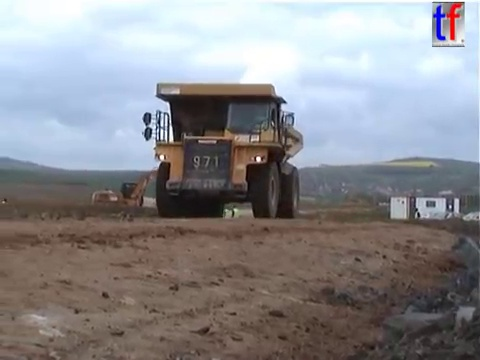excavator: (89, 163, 198, 214)
truck: (140, 79, 307, 221)
worker: (221, 204, 233, 224), (230, 204, 240, 223)
